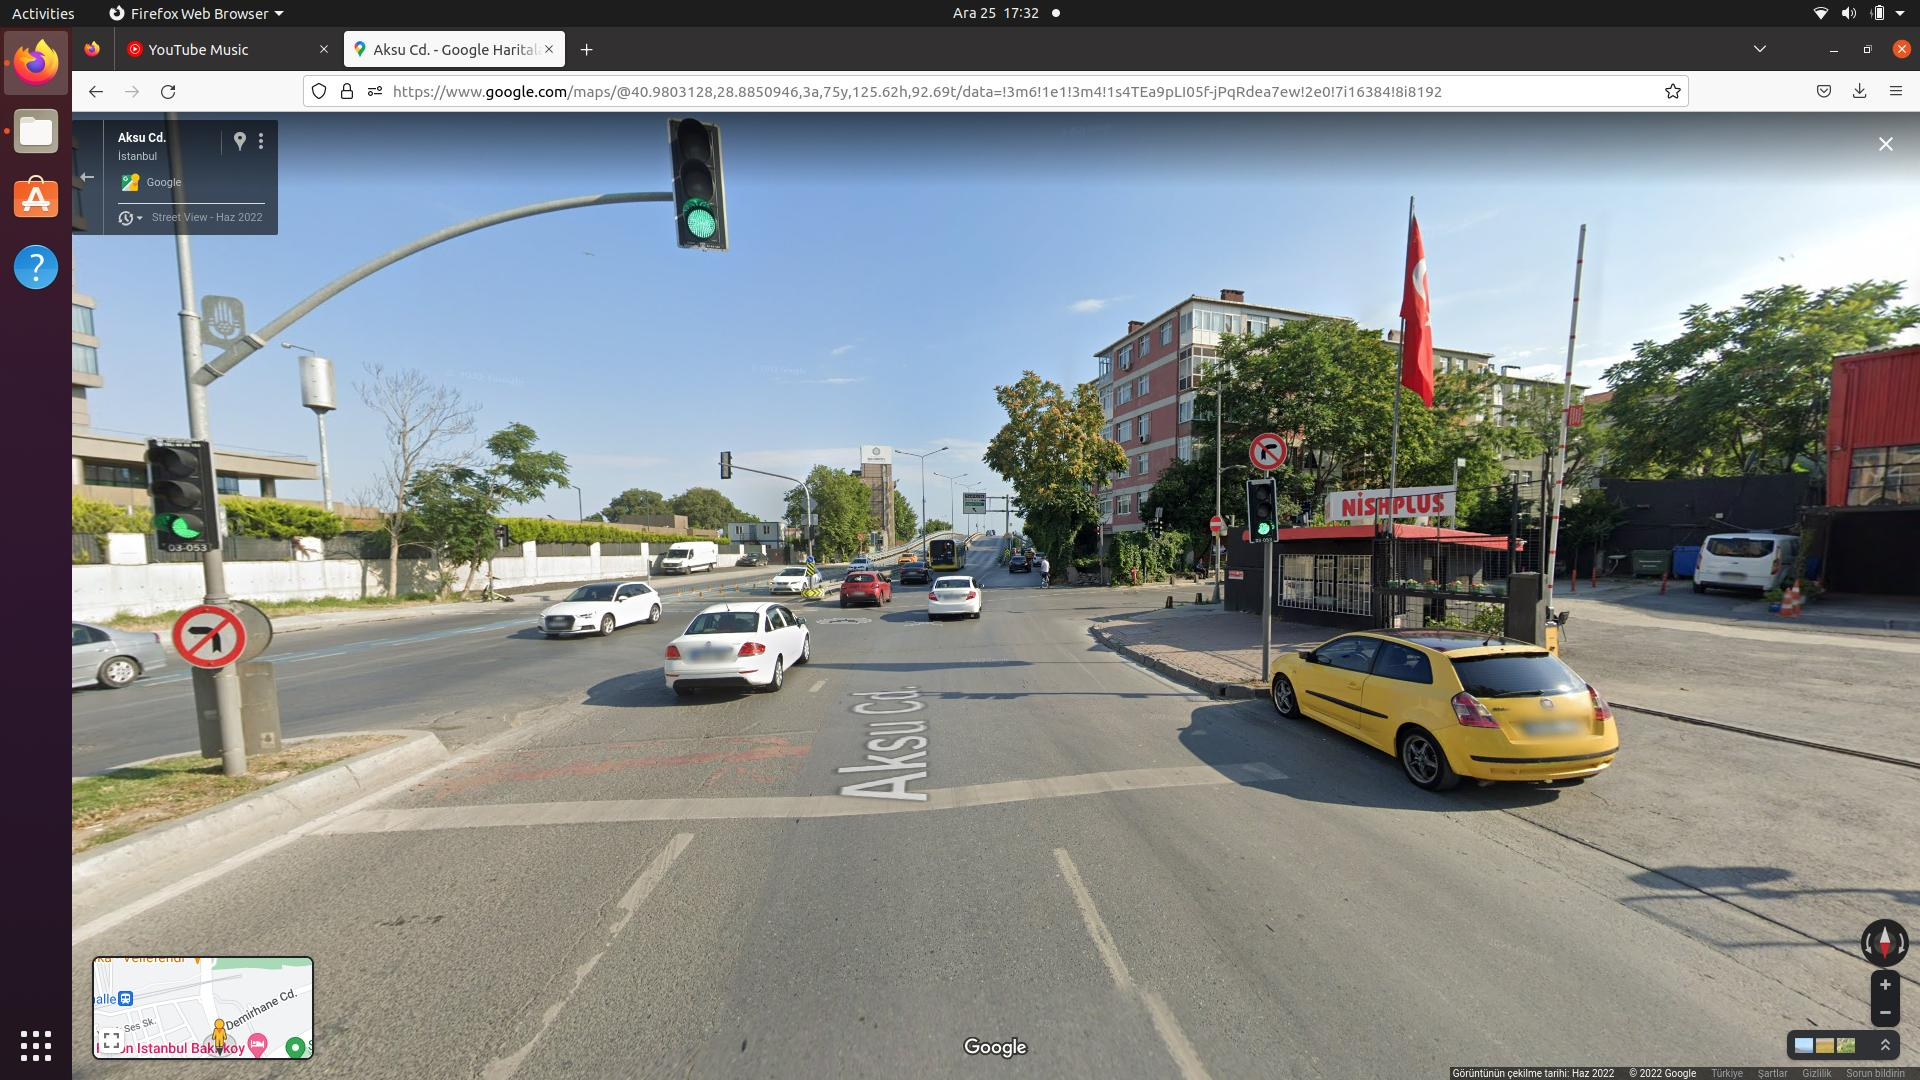greenlight: (670, 112, 725, 247), (146, 439, 207, 554), (1247, 479, 1278, 542)
leftturnsareforbidden: (173, 607, 245, 671)
rightturnsareforbidden: (1251, 434, 1286, 471)
